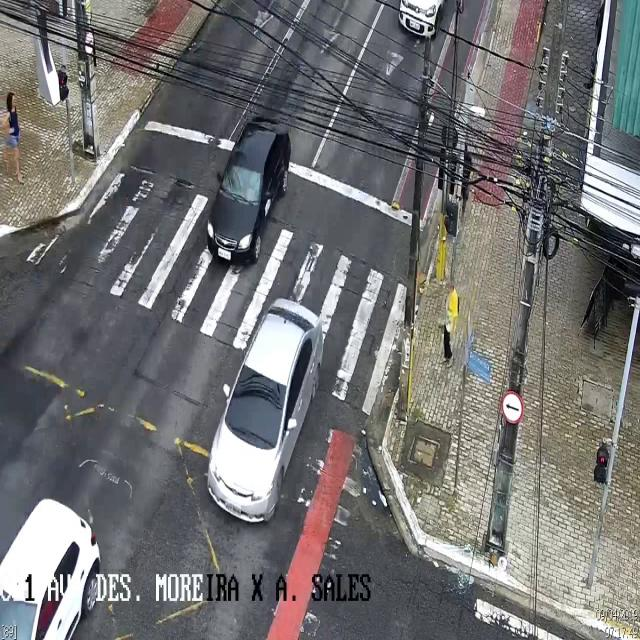Car: (207, 298, 321, 524), (0, 483, 123, 640), (207, 117, 291, 260), (392, 0, 456, 49)
